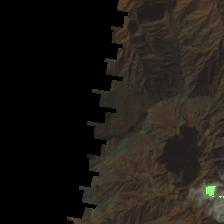landslides: (117, 143, 128, 159)
